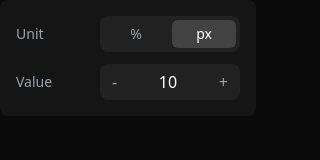
Test: ValueControl Component (Testing Original Code) › Input sanitization and clamping (onBlur) › should handle multiple dots (unit: px) (in: 12.4.5 -> out: 12.4)
The width and height of the screenshot is (320, 160).
Replace the text in the field with "12.4.5": {"x": 168, "y": 82} [129,64,207,100]
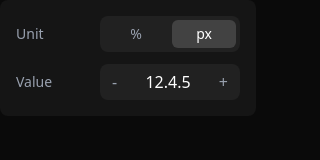
Leave the field, box [129,64,207,100]
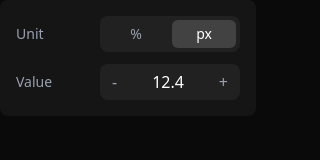
expect the field holds "12.4": met, box [129,64,207,100]
